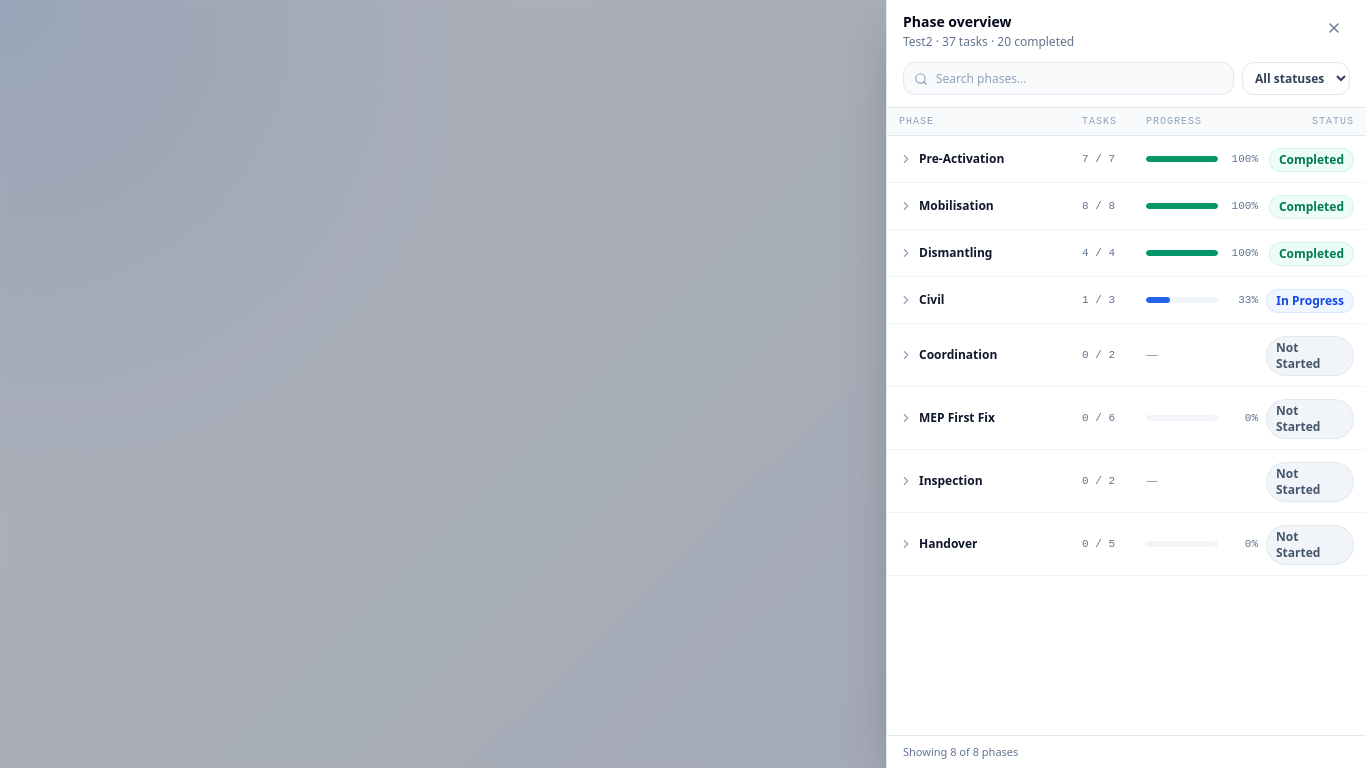
Test: Phase overview drawer › turns template day offsets into real dates
The image size is (1366, 768).
Click the button "Civil 1 / 3 33% In progress".
click(1182, 300)  # box [887,277,1365,324]
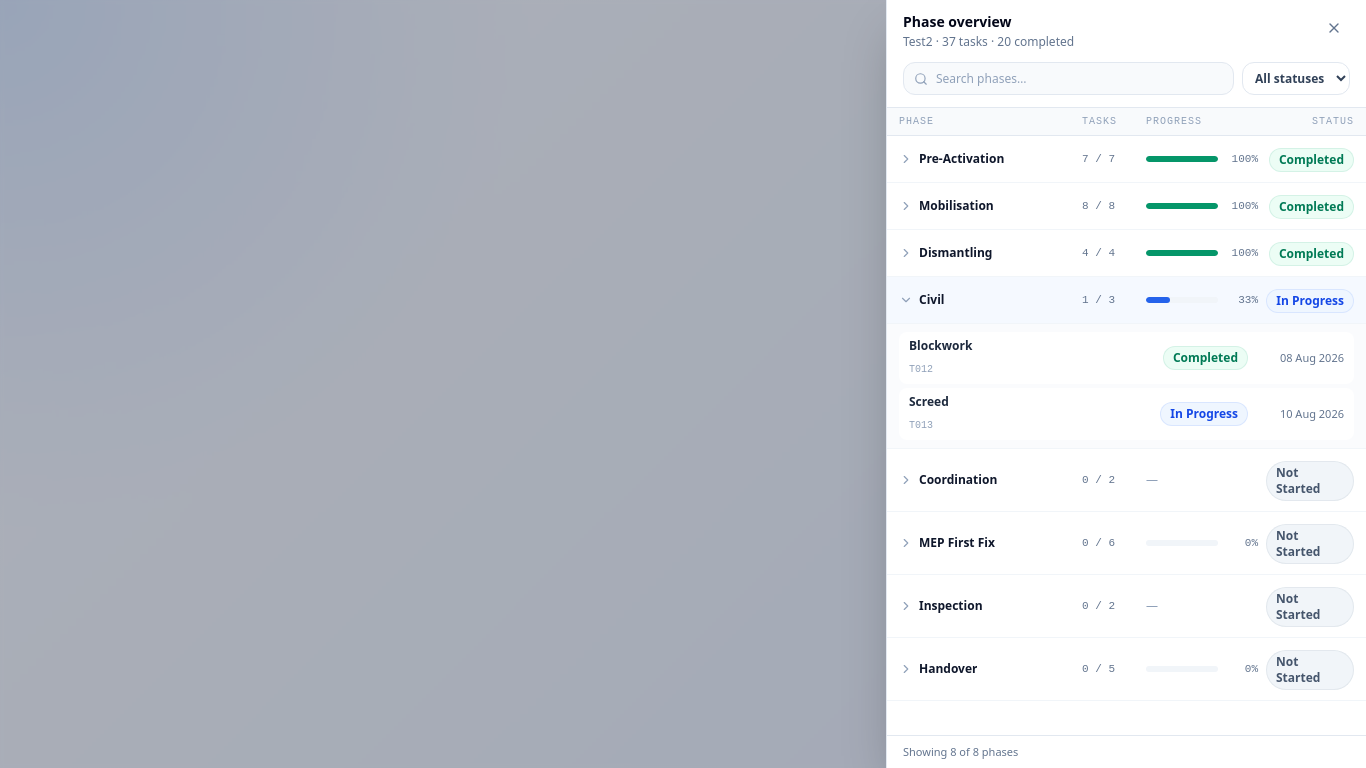
Expected: the text "08 Aug 2026" is shown, [1280,350,1344,366]
